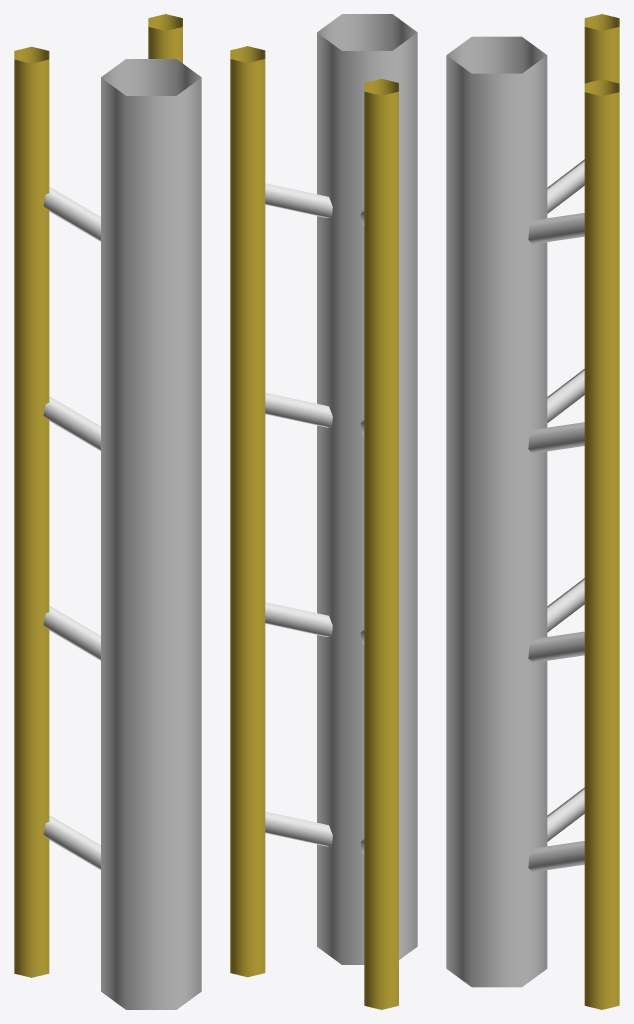
The model's file is Track.fbx.
The picture shows the model from 3 angles, left to right: view 1: azimuth 30°, elevation 25°; view 2: azimuth 150°, elevation 25°; view 3: azimuth 270°, elevation 25°; orthographic projection.
Parts seen in each view (by area): view 1: Cylinder; view 2: Cylinder; view 3: Cylinder.
Part boxes in pixels (<box>): Cylinder: <box>14,14,201,1009</box>; Cylinder: <box>230,14,417,1009</box>; Cylinder: <box>446,14,619,1009</box>.
Size of the model in its own units: 290 by 1500 by 257.
